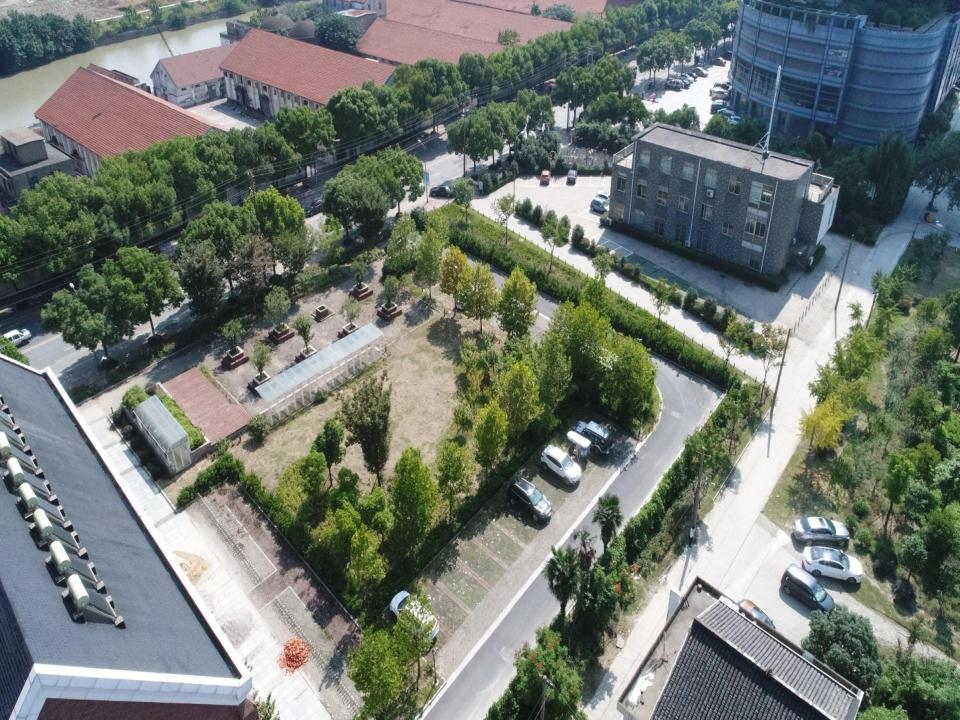bus: (546, 81, 580, 103), (610, 63, 637, 83)
car: (780, 562, 835, 616), (390, 588, 440, 646), (802, 545, 863, 584), (507, 477, 552, 522), (793, 516, 850, 547), (539, 444, 581, 486), (573, 418, 615, 456), (736, 598, 777, 634), (2, 328, 31, 350), (302, 196, 328, 218), (710, 98, 735, 114), (429, 184, 456, 198), (590, 197, 612, 214), (716, 108, 739, 121), (539, 167, 551, 185), (595, 191, 613, 203), (712, 89, 730, 101), (710, 86, 728, 98), (713, 82, 731, 94), (666, 78, 684, 90), (727, 115, 746, 126), (566, 168, 578, 184), (677, 73, 694, 84), (691, 67, 708, 78), (675, 78, 689, 88), (711, 57, 726, 66), (685, 72, 698, 80), (723, 51, 734, 59)
